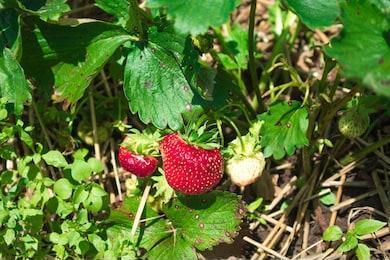Fresa: (156, 128, 226, 201), (116, 130, 161, 184)
